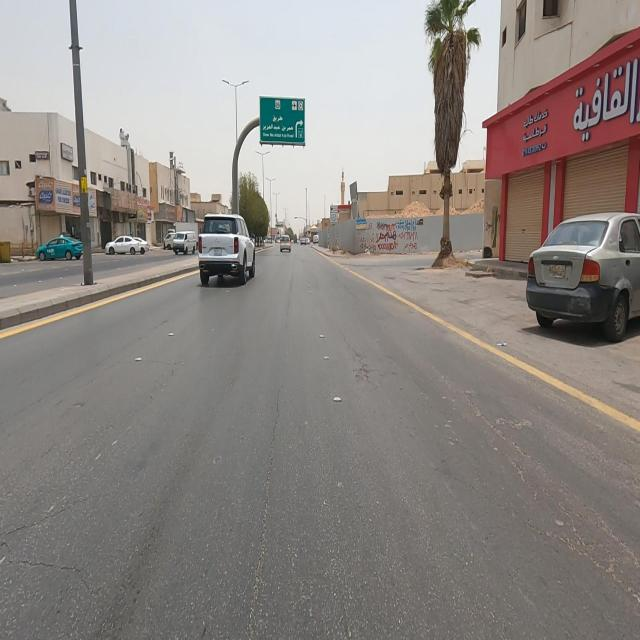Graffiti: (376, 220, 420, 253), (368, 224, 376, 253), (359, 232, 368, 252)
